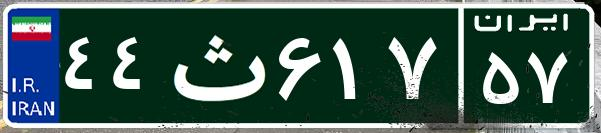1: (330, 28, 385, 110)
4: (57, 26, 110, 107), (110, 28, 158, 105)
5: (475, 38, 525, 113)
6: (273, 28, 330, 110)
7: (385, 28, 445, 110), (525, 38, 570, 115)
ث: (158, 15, 273, 115)
